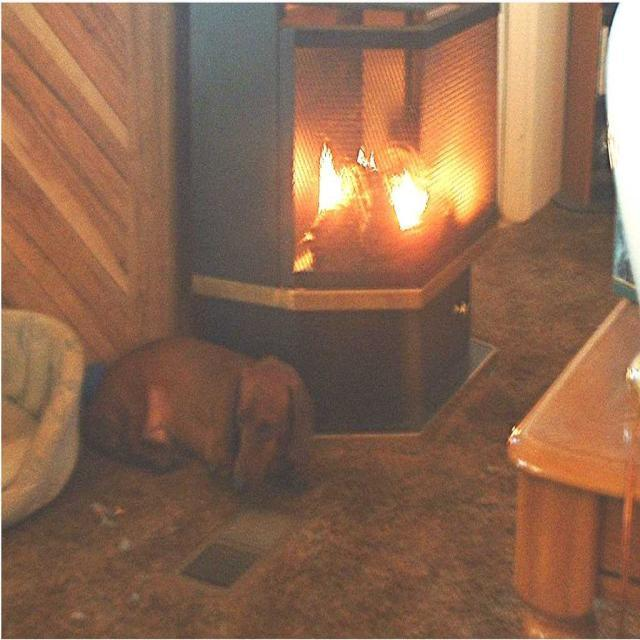Fire: (316, 137, 441, 226)
